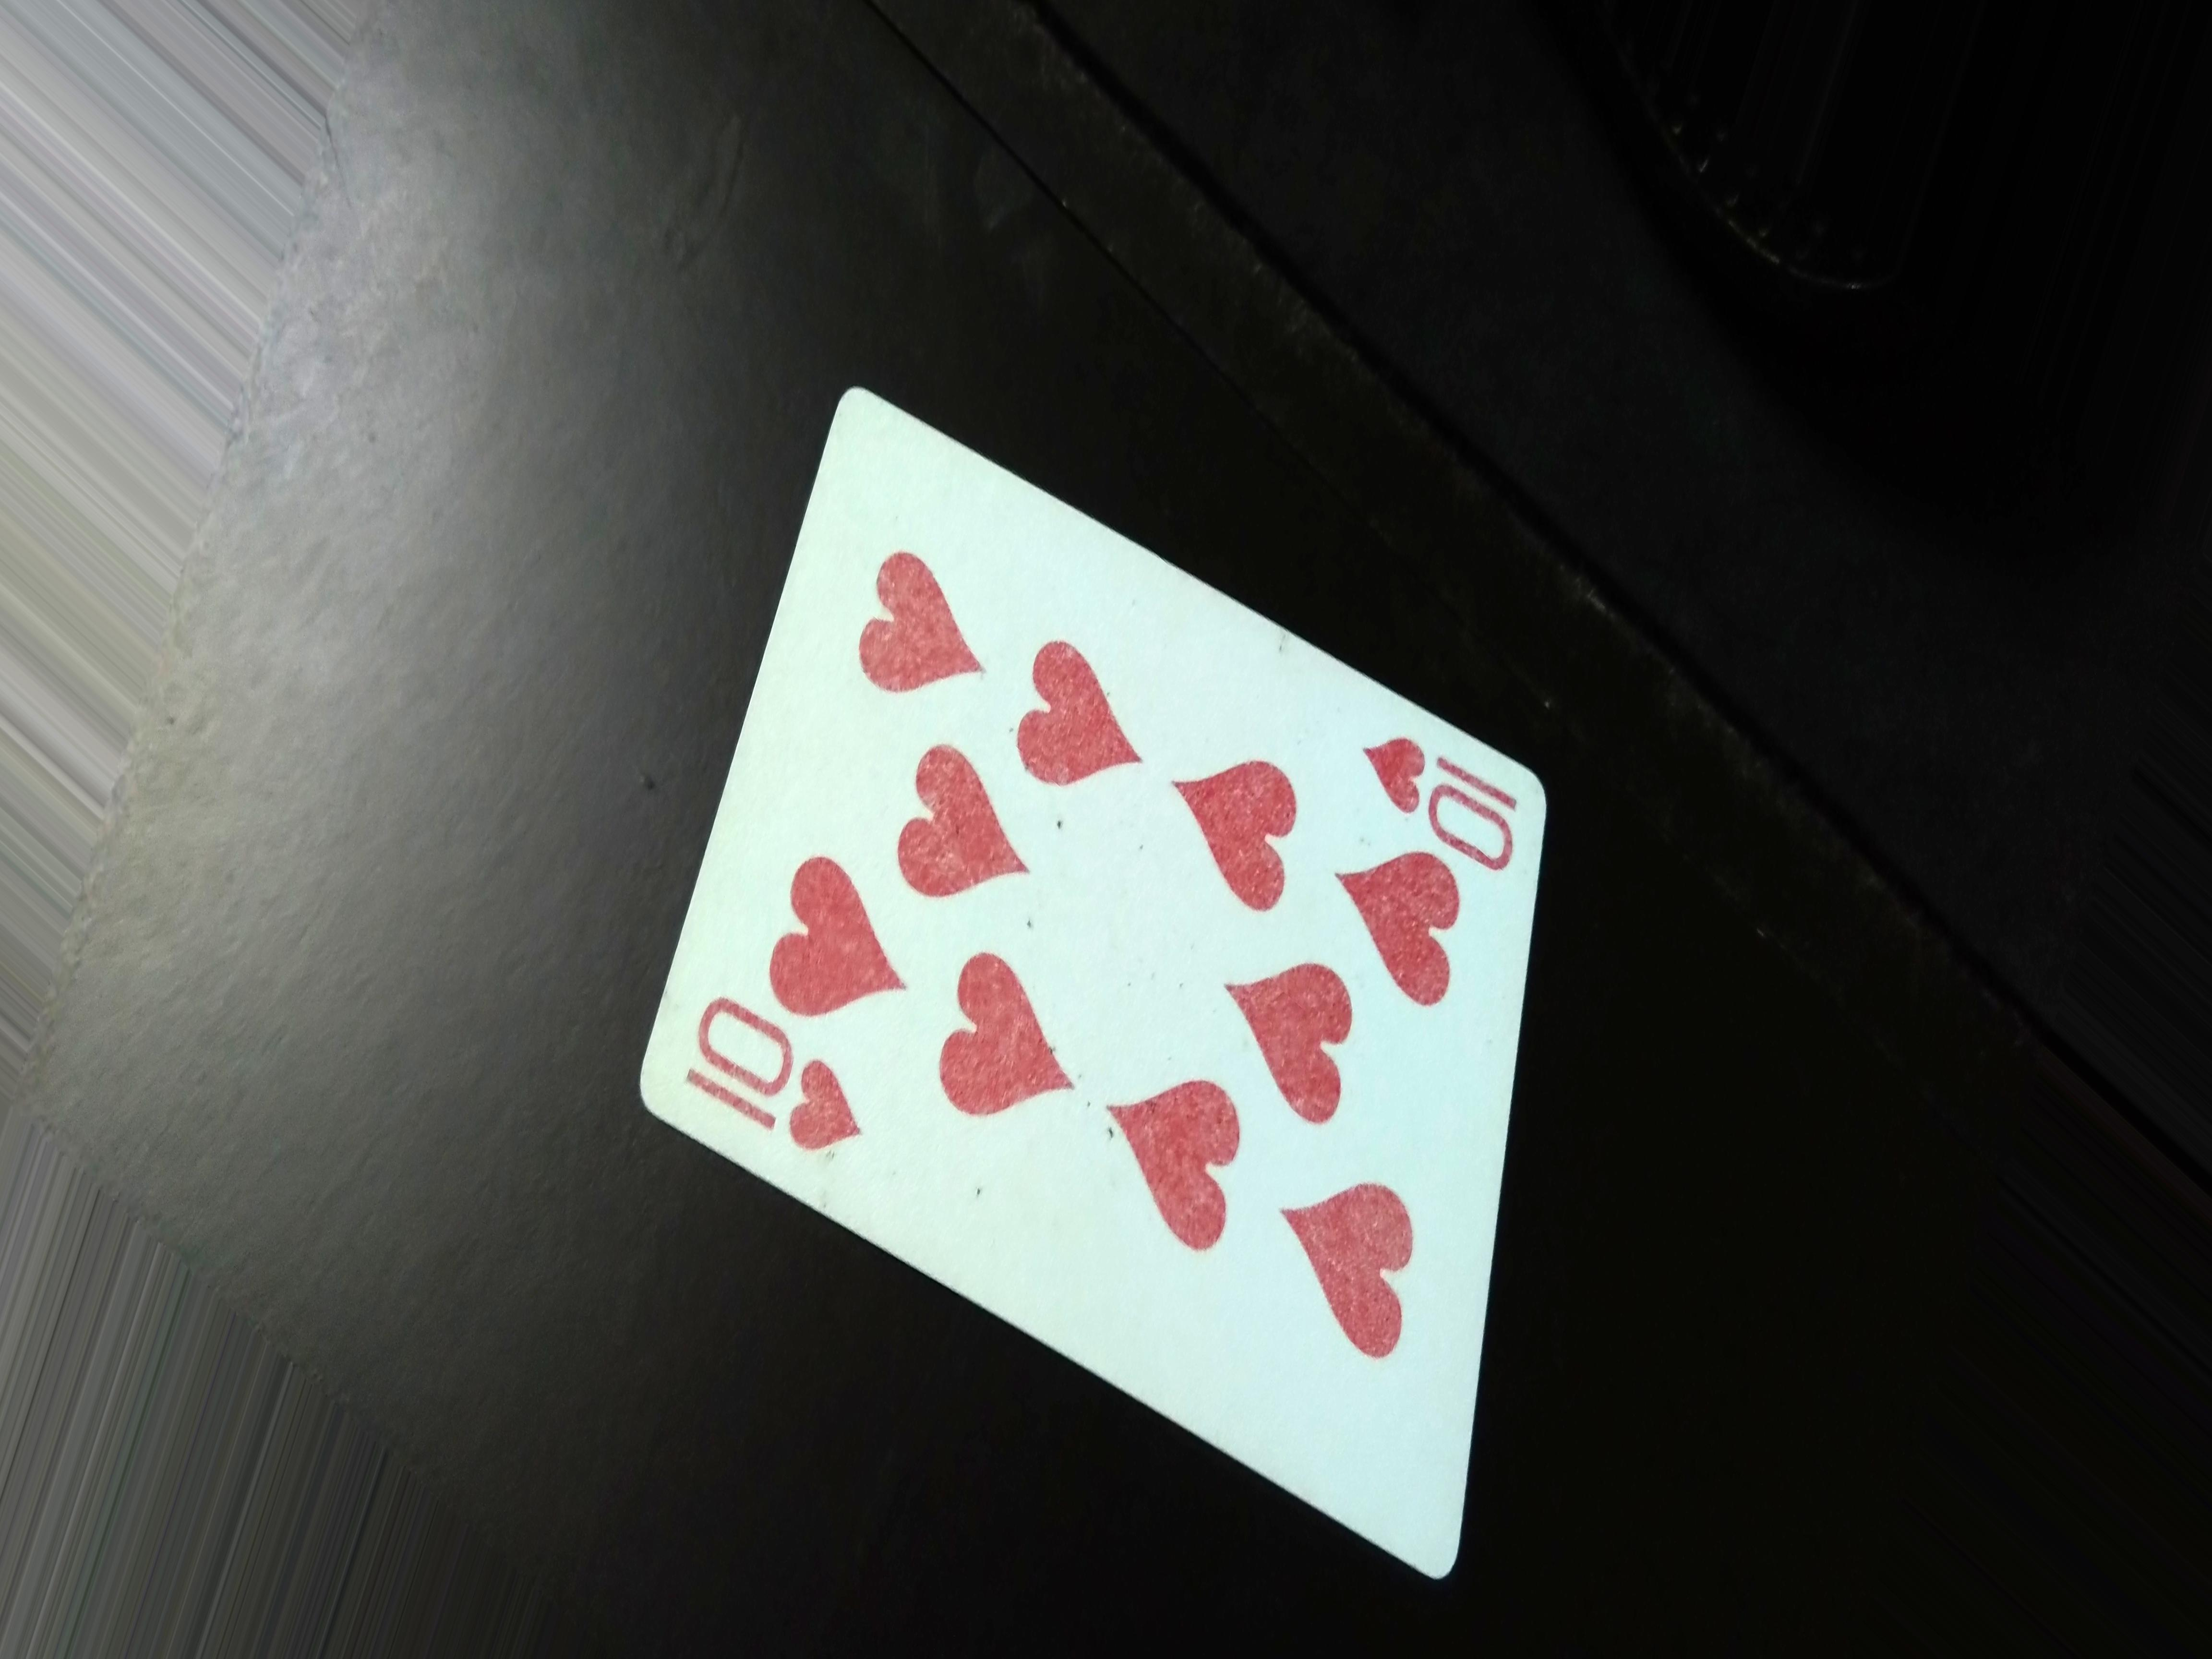10H: (683, 993, 876, 1175)
